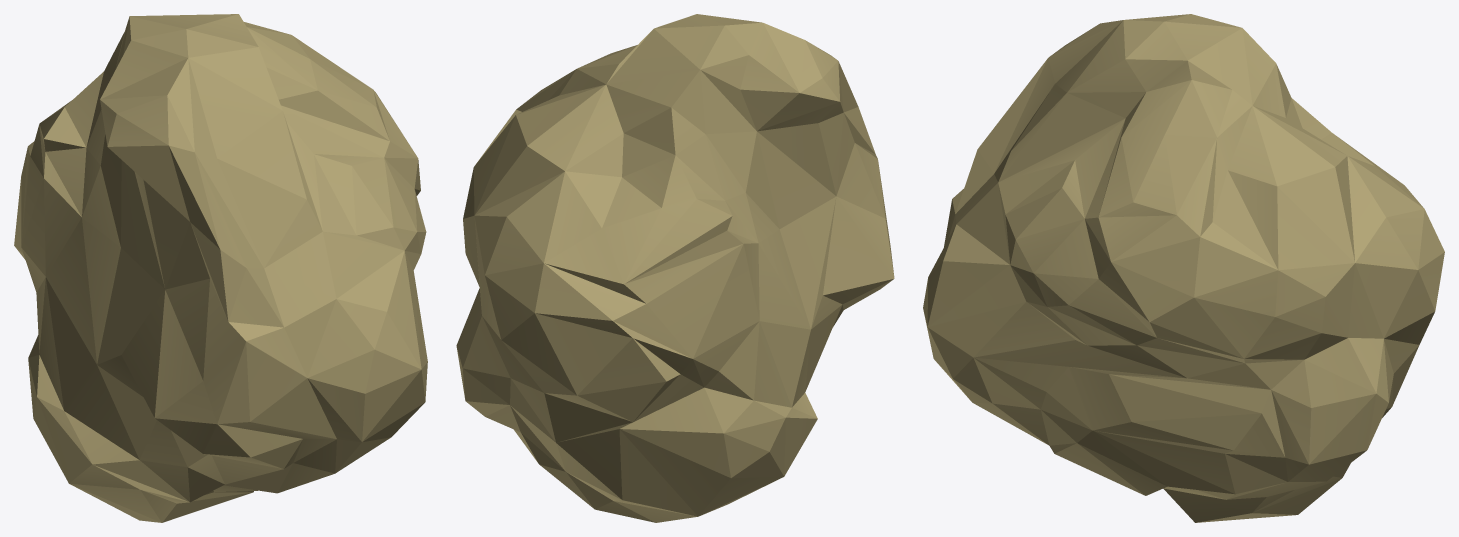
Rendered from SM_rock_08.fbx.
3 views of the same model, side by side, from view 1: azimuth 30°, elevation 25°; view 2: azimuth 150°, elevation 25°; view 3: azimuth 270°, elevation 25° (orthographic). The views are drawn at different scales.
Visible parts, largest first — view 1: rock_08; view 2: rock_08; view 3: rock_08.
Part boxes in pixels (bbox=[...]): rock_08: bbox=[14, 14, 427, 522]; rock_08: bbox=[456, 14, 894, 522]; rock_08: bbox=[923, 14, 1444, 522].
Bounding box in the file's own units: 329 × 481 × 471.
